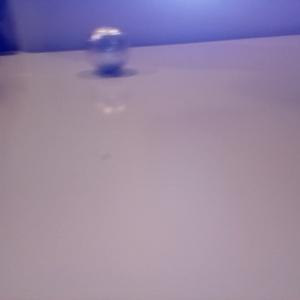alive_ball: (85, 26, 128, 72)
